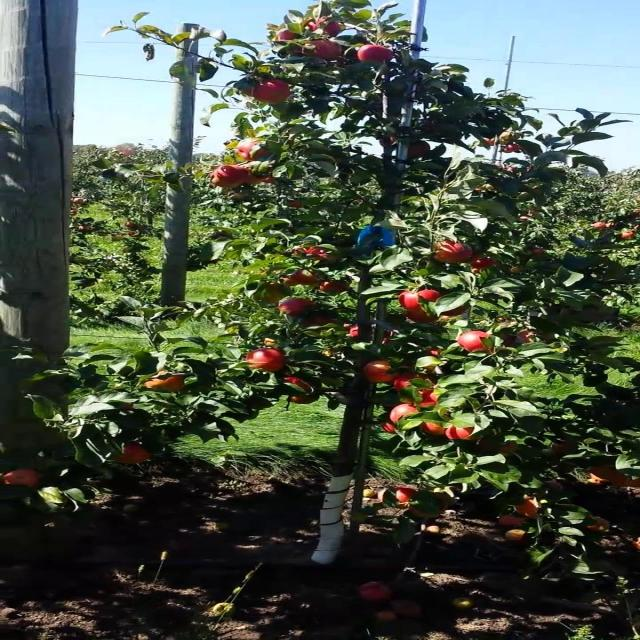apple: (433, 240, 475, 264), (412, 496, 452, 520), (255, 80, 292, 104), (305, 40, 347, 61), (376, 488, 418, 509), (141, 372, 185, 392), (248, 352, 284, 372), (362, 44, 396, 64), (404, 292, 441, 310), (212, 168, 245, 188), (369, 360, 396, 384), (120, 444, 151, 464), (412, 504, 450, 520), (461, 332, 491, 352), (6, 472, 43, 488), (305, 20, 341, 36), (483, 440, 519, 456), (390, 404, 420, 423), (397, 376, 434, 391), (284, 300, 315, 316), (589, 468, 622, 483), (582, 516, 612, 532), (241, 144, 270, 160), (284, 376, 313, 392), (468, 256, 498, 271), (248, 170, 277, 185), (305, 248, 336, 262), (291, 272, 324, 285), (404, 312, 439, 324), (419, 388, 441, 407), (518, 500, 540, 519), (319, 280, 348, 294), (447, 428, 476, 441), (248, 172, 277, 185), (305, 316, 334, 328), (611, 476, 639, 488), (412, 144, 434, 158), (440, 308, 469, 318), (262, 292, 286, 304), (554, 444, 576, 455), (426, 424, 446, 436), (518, 332, 537, 344), (348, 324, 363, 339), (291, 396, 318, 404), (276, 32, 299, 41), (262, 284, 283, 292), (426, 348, 444, 357), (284, 276, 299, 286), (383, 424, 398, 433), (298, 248, 311, 257), (390, 136, 398, 144)
